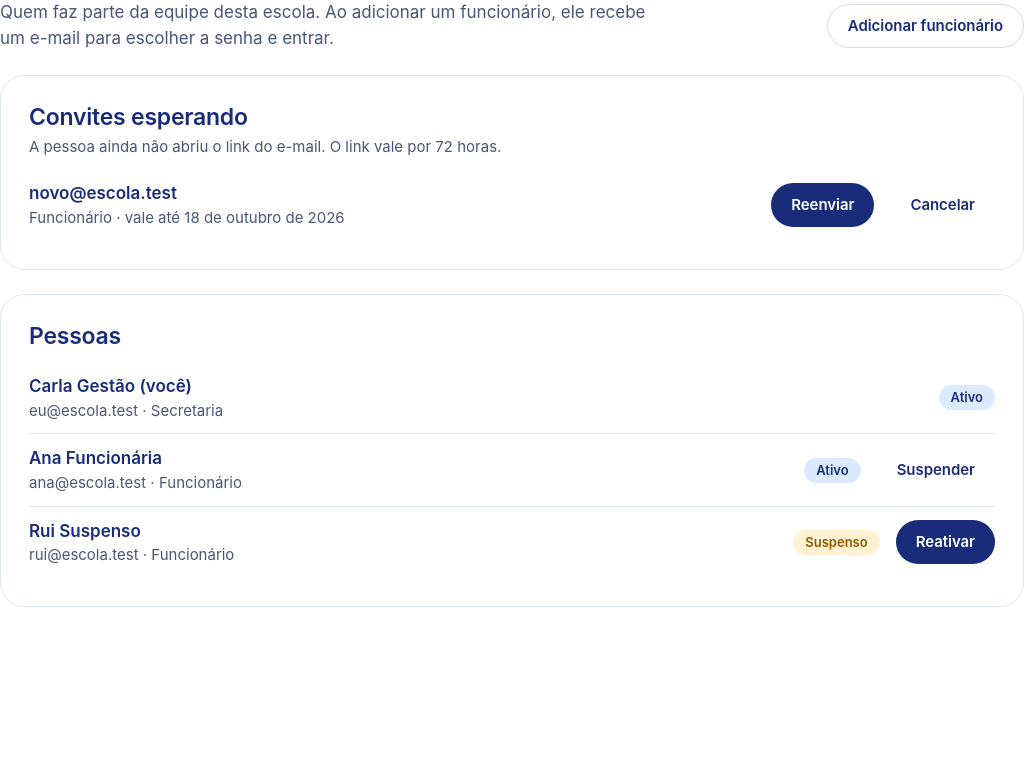
Test: Equipe › e-mail que ja esta na equipe vira uma frase clara
Click the button "Adicionar funcionário".
click(925, 26)  # box [827,4,1023,48]
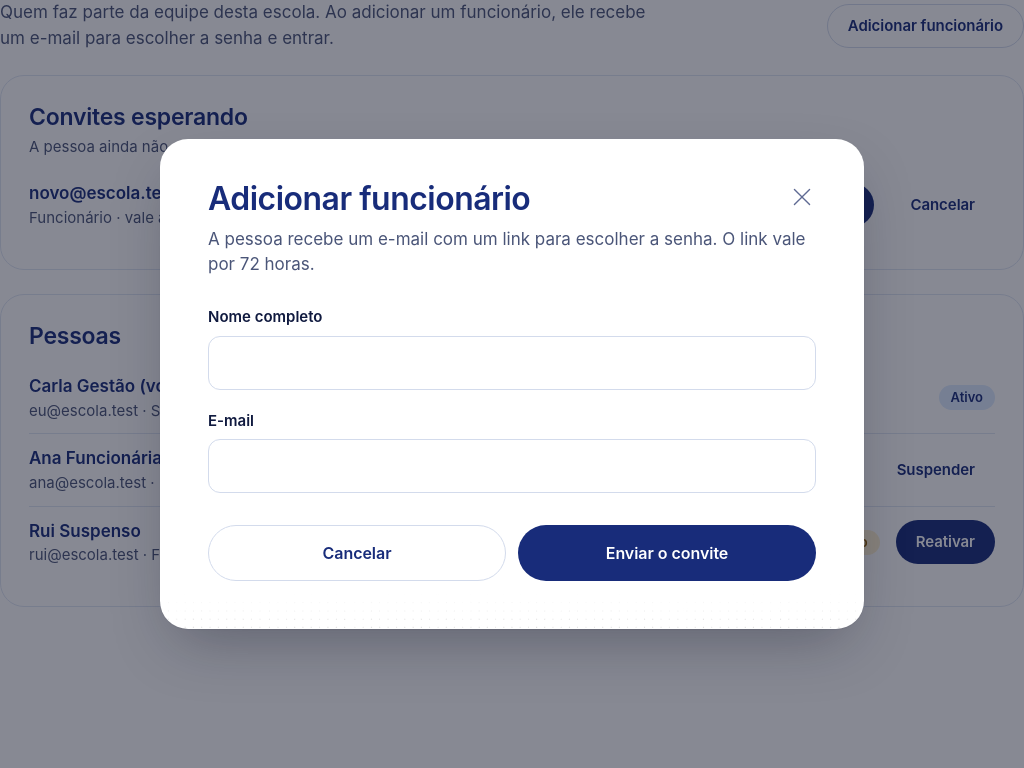
Type "Ana Funcionária" into the field labelled "Nome completo".
click(512, 362); type("Ana Funcionária")  # box [208,336,816,390]
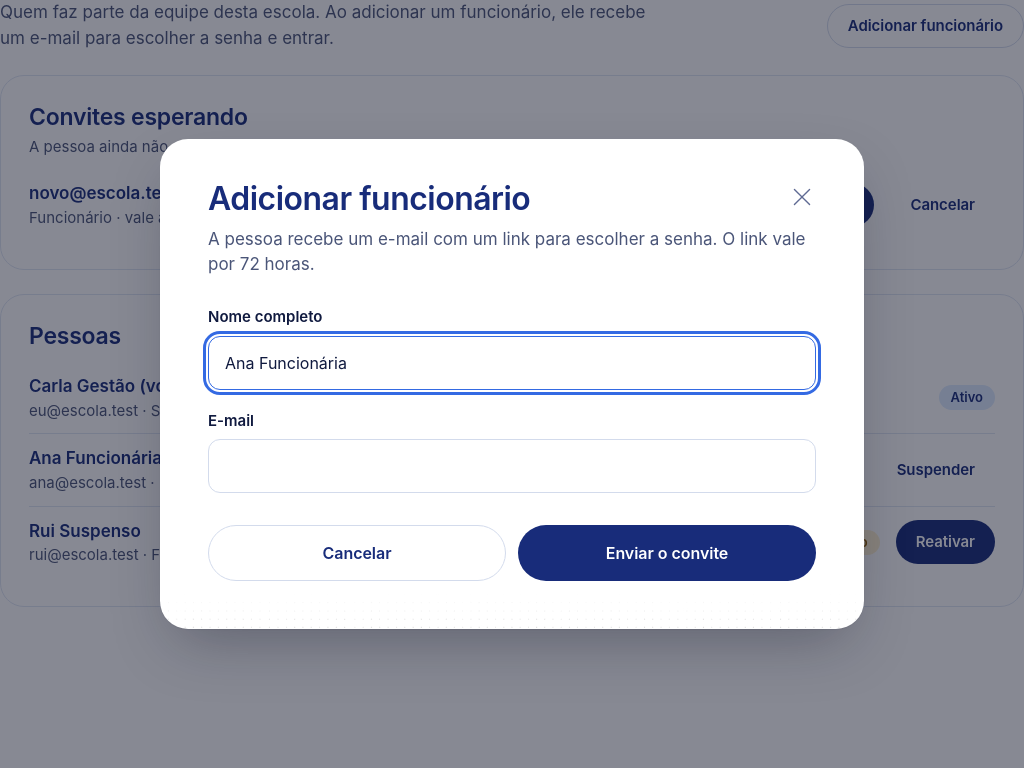
Type "ana@escola.test" into the field labelled "E-mail".
click(512, 466); type("ana@escola.test")  # box [208,439,816,493]
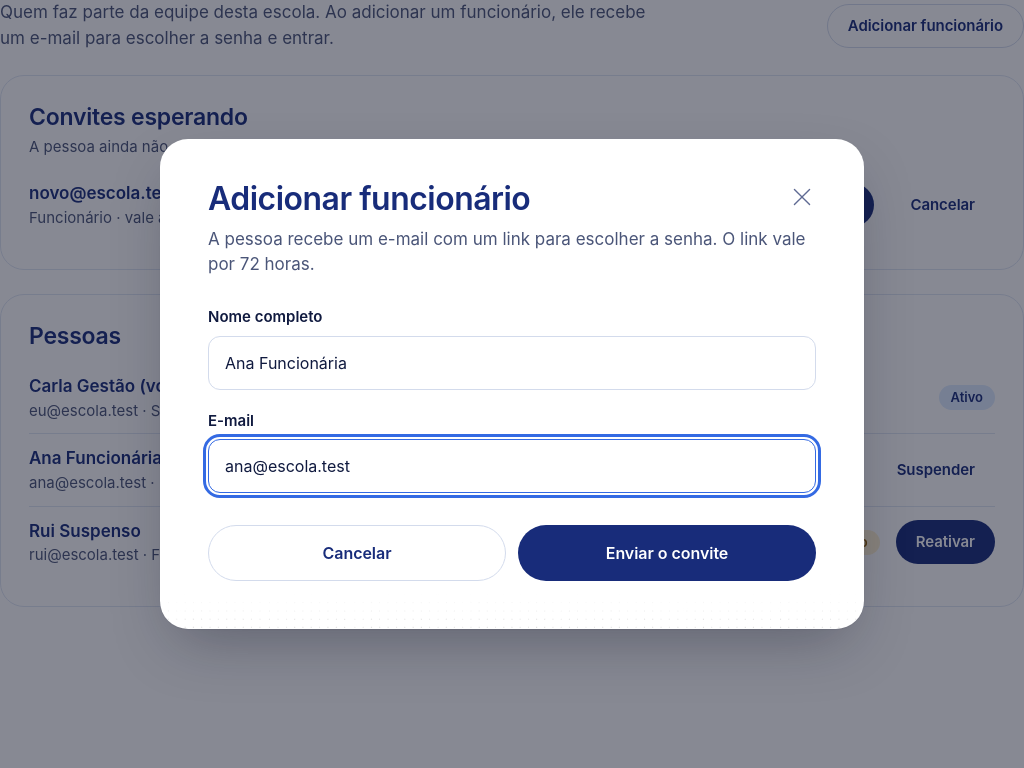
Click the button "Enviar o convite".
click(667, 553)  # box [518,525,816,581]
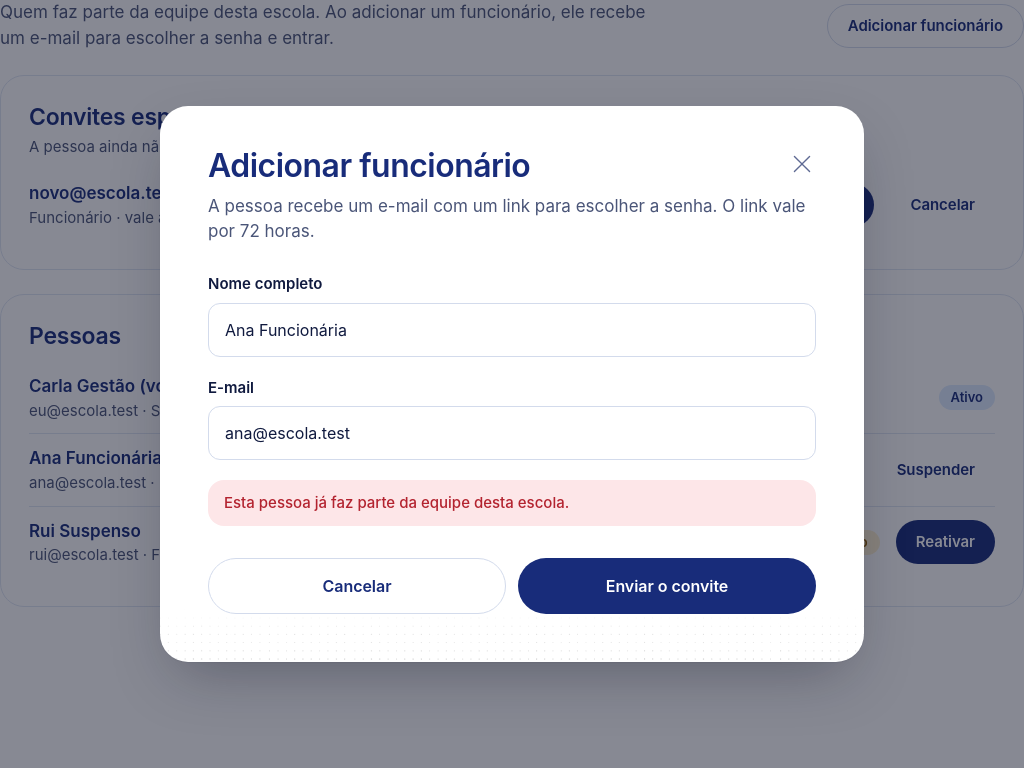
Result: the message shows "já faz parte da equipe" at [224,493,569,512]
